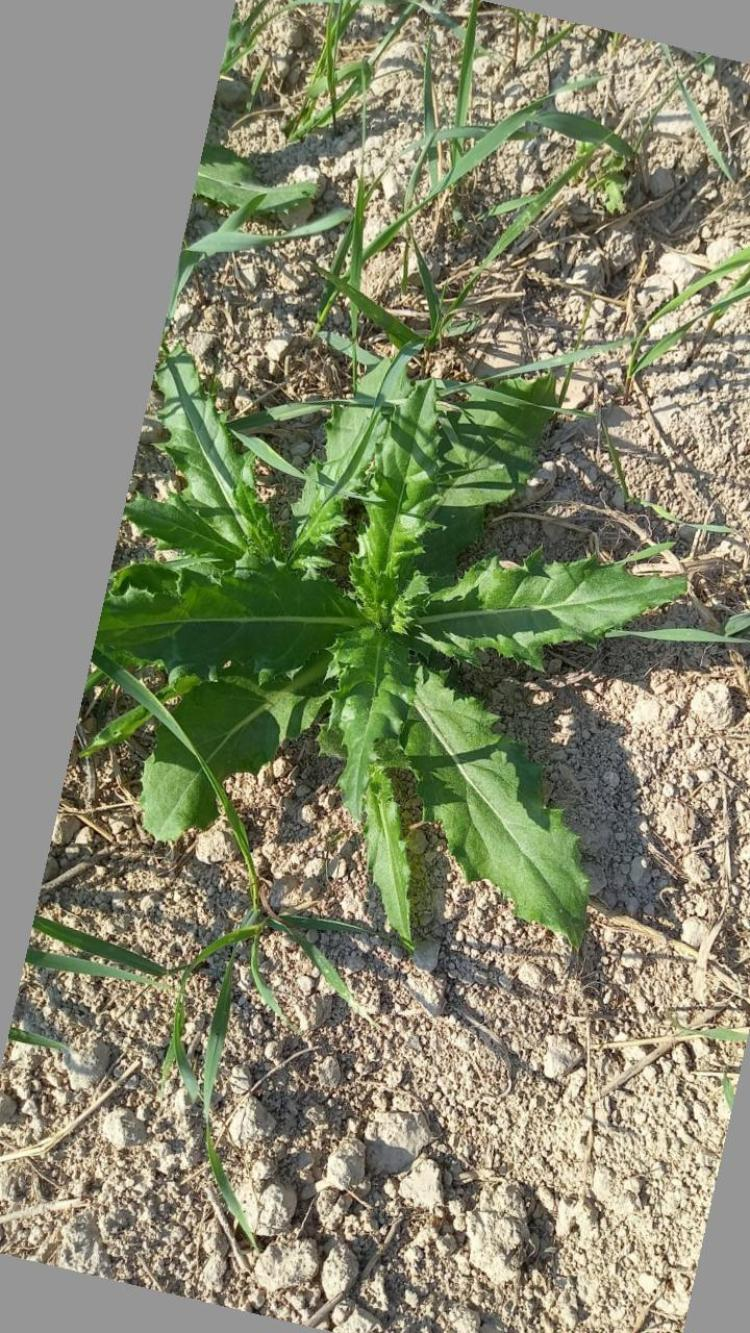osot: (117, 317, 696, 958)
